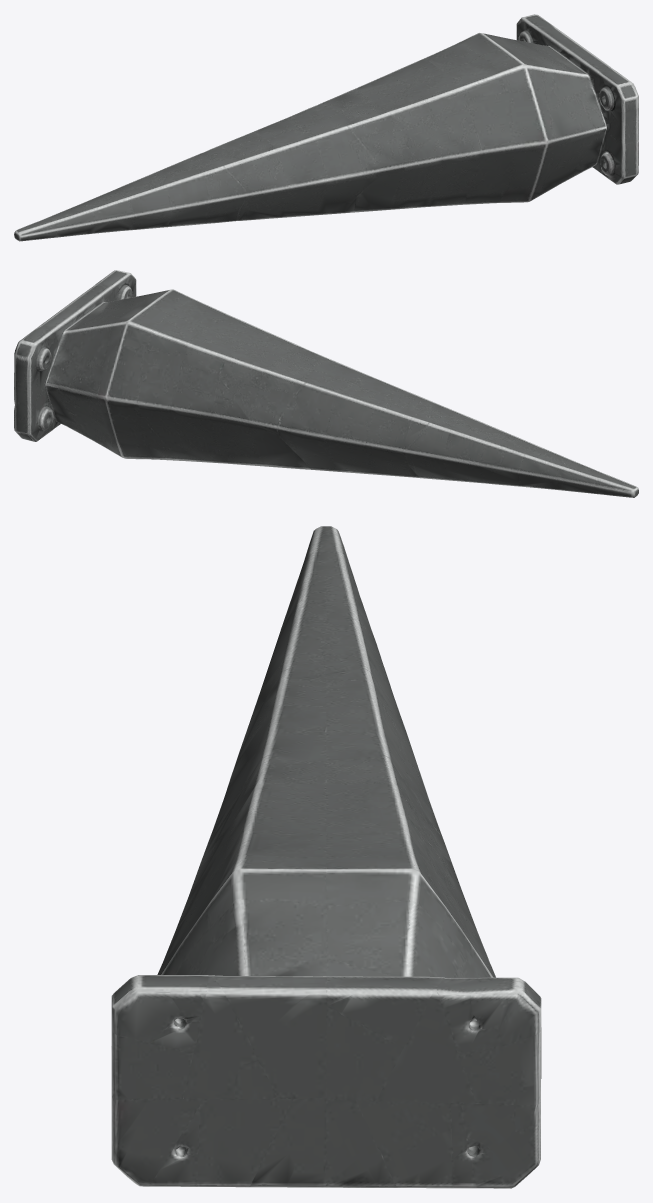
Rendered from horn_straight.glb.
3 renders of one model, top to bottom at view 1: azimuth 30°, elevation 25°; view 2: azimuth 150°, elevation 25°; view 3: azimuth 270°, elevation 25°, orthographic. The views are drawn at different scales.
Parts seen in each view (by area): view 1: mesh_node; view 2: mesh_node; view 3: mesh_node.
Part boxes in pixels (<box>): mesh_node: <box>14,14,638,241</box>; mesh_node: <box>14,270,638,497</box>; mesh_node: <box>111,526,541,1188</box>.
Size of the model in its own units: 1.9 by 0.4401 by 0.6207.
Materials: 1 (1 with a texture image).
